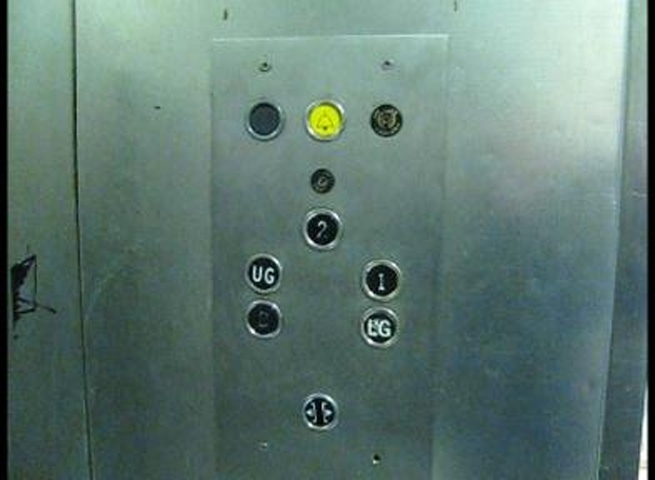1: (359, 257, 405, 303)
2: (300, 206, 344, 251)
LG: (358, 305, 402, 349)
UG: (242, 251, 284, 296)
alarm: (301, 95, 349, 145)
blur: (243, 299, 283, 339)
empty: (241, 96, 288, 143)
keyhole: (368, 102, 406, 141), (307, 166, 338, 195)
open: (300, 392, 340, 430)
